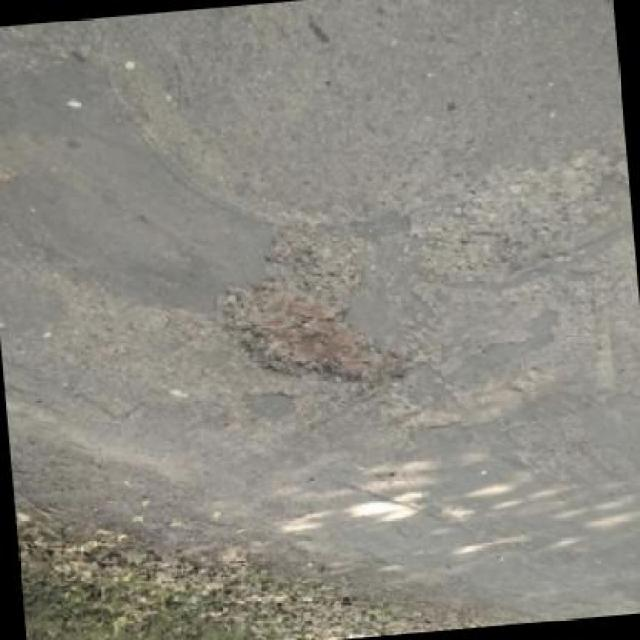pothole1: (222, 268, 416, 402)
